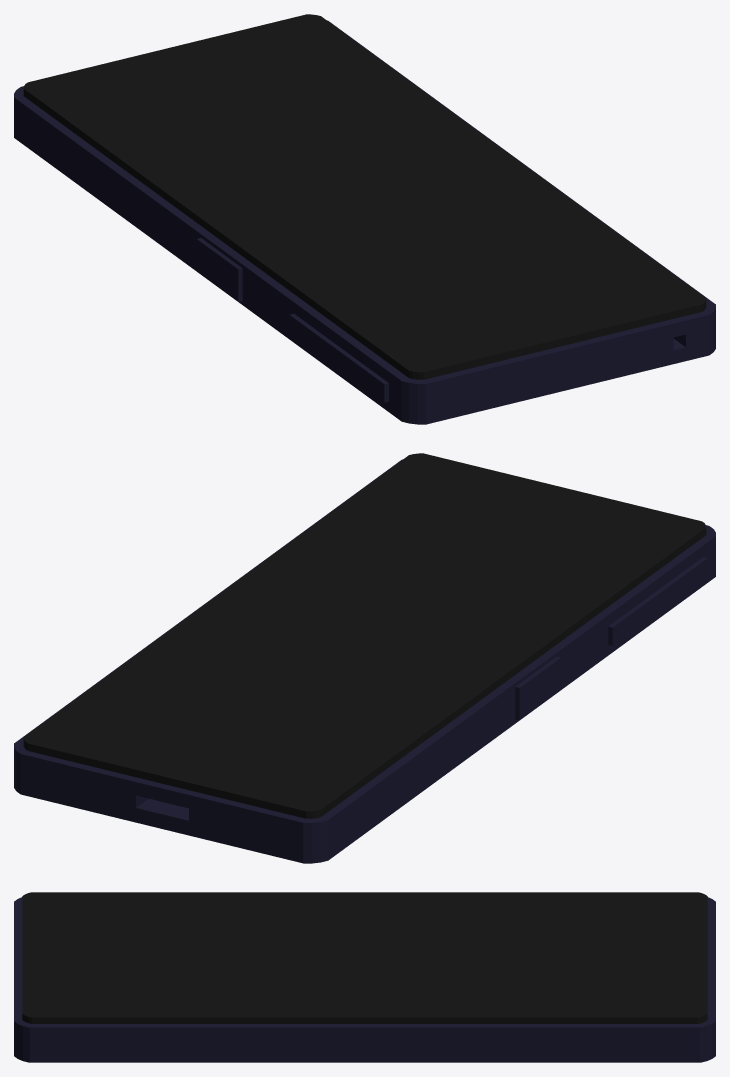
The model's file is Smartphone.glb.
3 renders of one model, top to bottom at view 1: azimuth 30°, elevation 25°; view 2: azimuth 150°, elevation 25°; view 3: azimuth 270°, elevation 25°, orthographic. The views are drawn at different scales.
Parts seen in each view (by area): view 1: Node; view 2: Node; view 3: Node.
Boxes of the visible parts, x1,y1,x2,y2 form: Node: [14, 14, 715, 424]; Node: [14, 453, 715, 863]; Node: [14, 892, 715, 1062].
Bounding box in the file's own units: 0.1021 × 0.0147 × 0.2253.
1 material, 1 textured.
